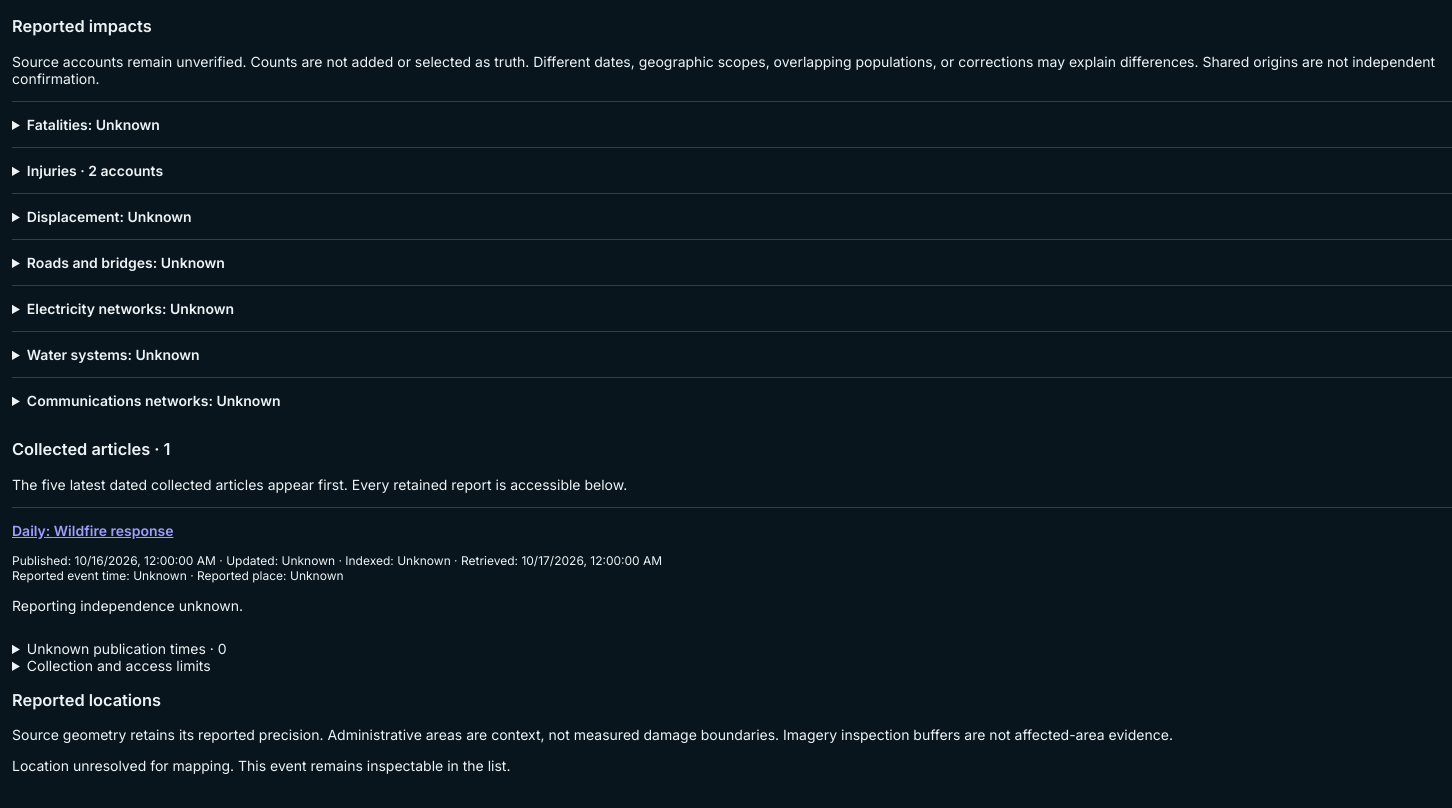
Test: groups burn accounts under injuries while preserving subtype and overlapping counts
Click the heading "Injuries · 2 accounts" at (95, 170), box [27,162,163,179]
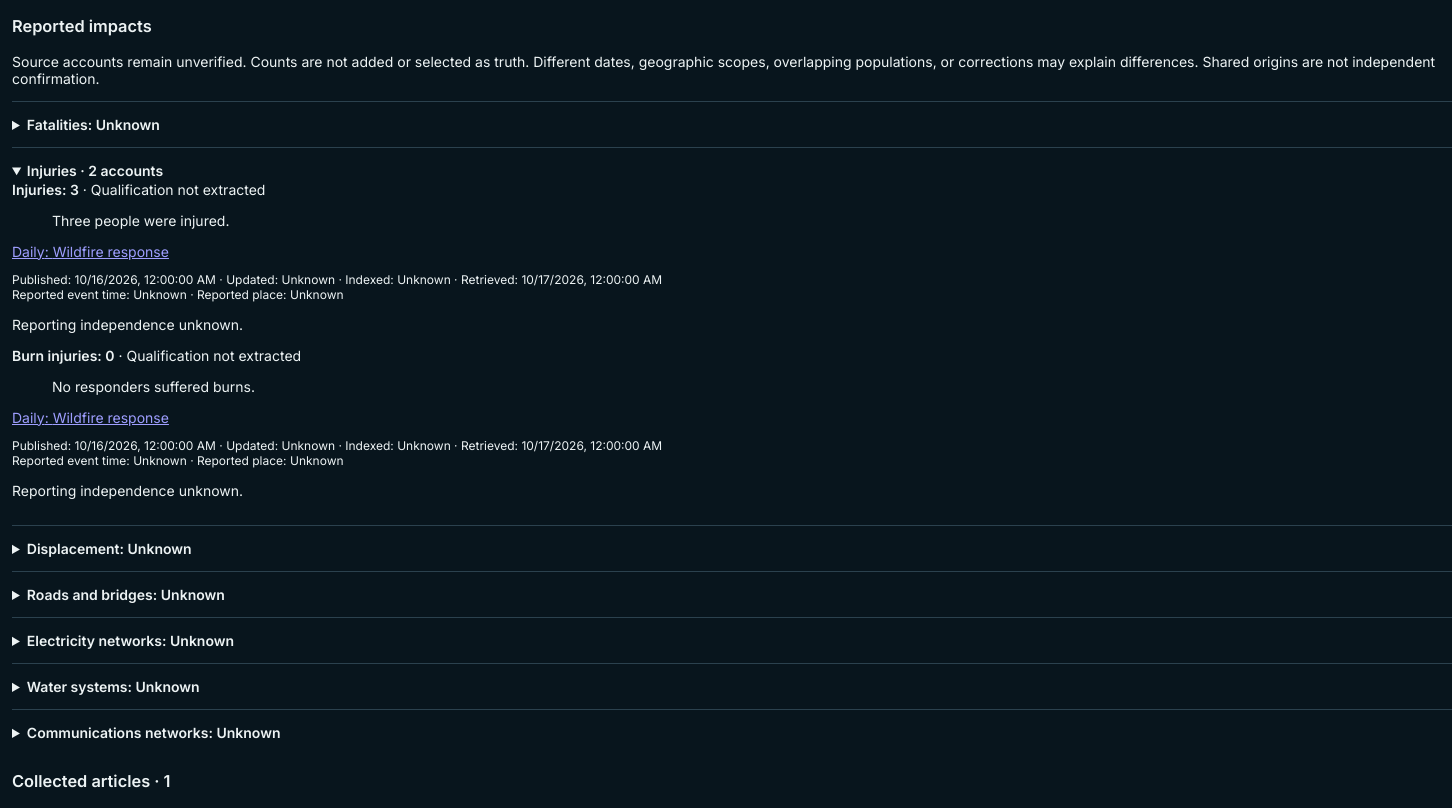
Now the text "Injuries: 3" is shown, box [12,181,79,198]
Now the text "Burn injuries: 0" is shown, box [12,347,115,364]
Now the text "No responders suffered burns." is shown, box [52,378,255,395]
